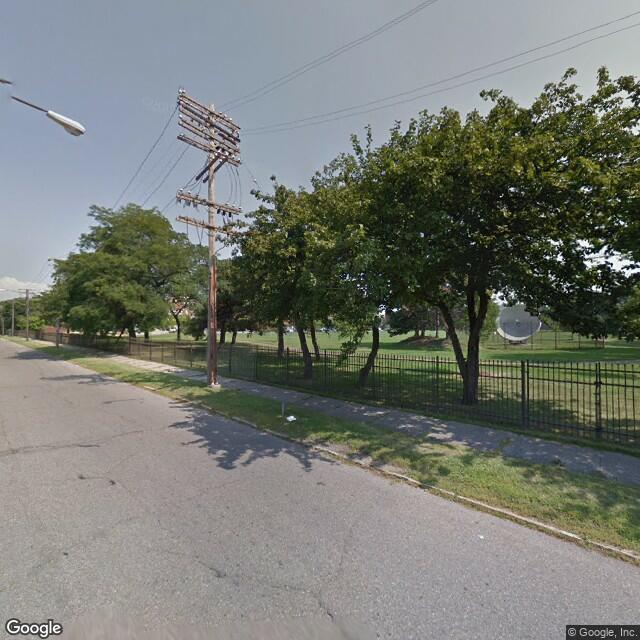litter: (286, 414, 297, 423), (182, 377, 189, 385)
